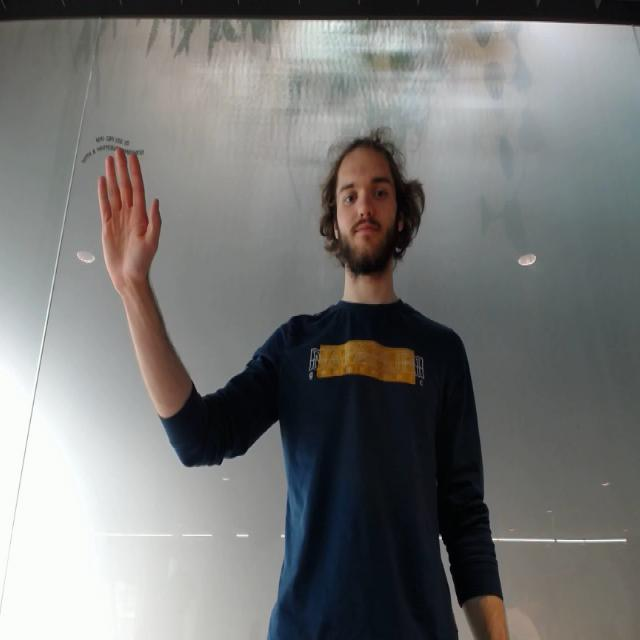backward: (96, 145, 166, 295)
